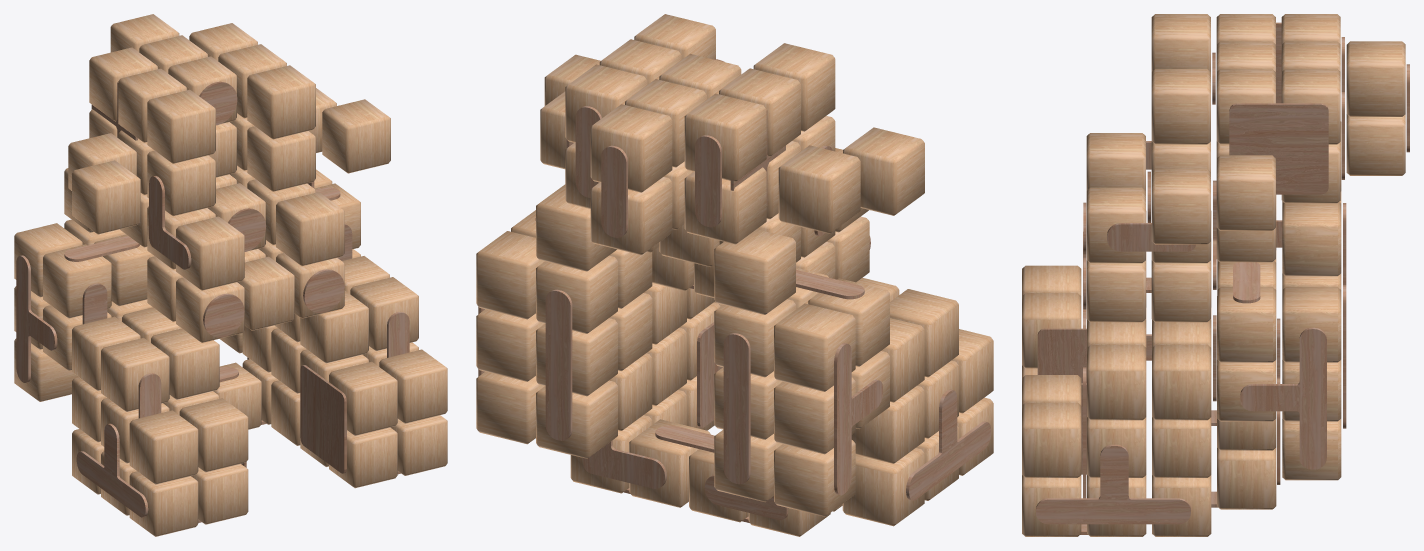
Rendered from level_112.fbx.
The picture shows the model from 3 angles, left to right: view 1: azimuth 30°, elevation 25°; view 2: azimuth 150°, elevation 25°; view 3: azimuth 270°, elevation 25°; orthographic projection. The views are drawn at different scales.
Parts seen in each view (by area): view 1: Cube.016, Cube.043, Cube.083, Cube.042, Cube.062, Cube.081, Cube.059, obj_obs_square.006, Cube.034, Cube.077, Cube.011, Cube.007 (+63 smaller); view 2: Cube.040, Cube.094, Cube.069, Cube.042, Cube.037, Cube.041, Cube.086, Cube.079, Cube.091, Cube.012, obj_obs_Y.002, obj_obs_Y.003 (+61 smaller); view 3: obj_obs_square.001, obj_obs_T.003, obj_obs_T.005, Cube.020, Cube.023, Cube.025, Cube.045, Cube.037, Cube.083, Cube.043, Cube.095, Cube.087 (+40 smaller).
Part boxes in pixels (x1,y1,x2,y2): Cube.016: (129,410,198,484); Cube.043: (322,99,390,173); Cube.083: (247,65,315,139); Cube.042: (72,160,140,234); Cube.062: (276,192,344,266); Cube.081: (147,89,215,163); Cube.059: (176,216,244,290); obj_obs_square.006: (300,365,346,473); Cube.034: (329,361,397,435); Cube.077: (247,126,315,191); Cube.011: (101,338,169,411); Cube.007: (179,398,248,472); Cube.040: (778,145,860,233); Cube.094: (714,229,795,314); Cube.069: (774,303,855,391); Cube.042: (843,127,924,215); Cube.037: (590,104,672,192); Cube.041: (684,93,766,181); Cube.086: (476,231,544,319); Cube.079: (774,440,855,516); Cube.091: (536,255,617,333); Cube.012: (842,448,924,526); obj_obs_Y.002: (723,333,750,484); obj_obs_Y.003: (545,289,572,440); obj_obs_square.001: (1229,103,1328,194); obj_obs_T.003: (1036,444,1190,524); obj_obs_T.005: (1240,327,1326,469); Cube.020: (1087,344,1146,420); Cube.023: (1152,344,1211,420); Cube.025: (1022,402,1081,477); Cube.045: (1216,155,1275,230); Cube.037: (1346,41,1405,116); Cube.083: (1151,69,1210,144); Cube.043: (1151,169,1210,244); Cube.095: (1282,202,1341,276); Cube.087: (1217,287,1276,362).
Bounding box in the file's own units: 13.23 × 15.28 × 13.12.
